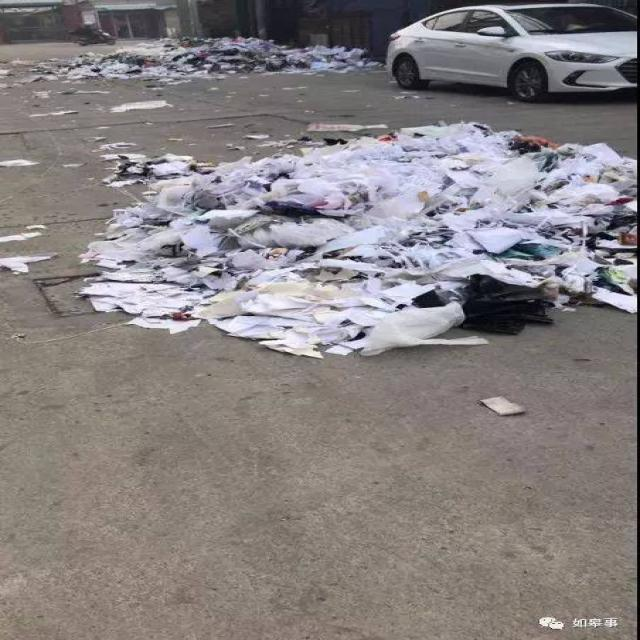garbage: (6, 122, 638, 360), (0, 36, 382, 86)
